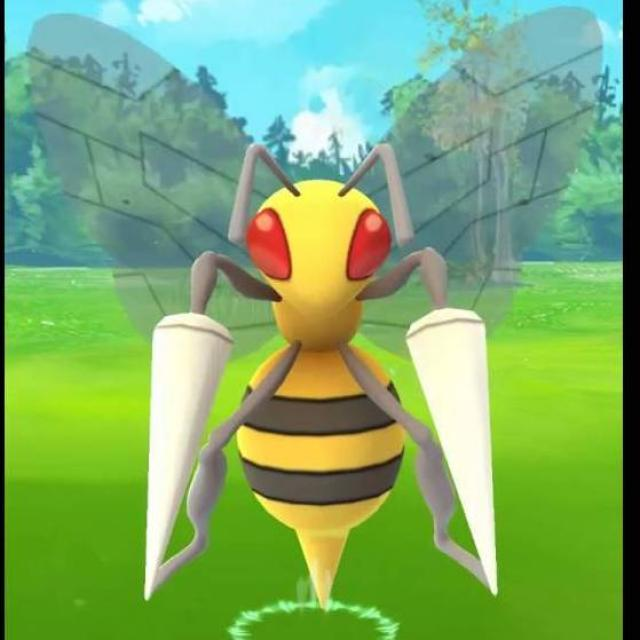Beedrill: (149, 142, 491, 609)
